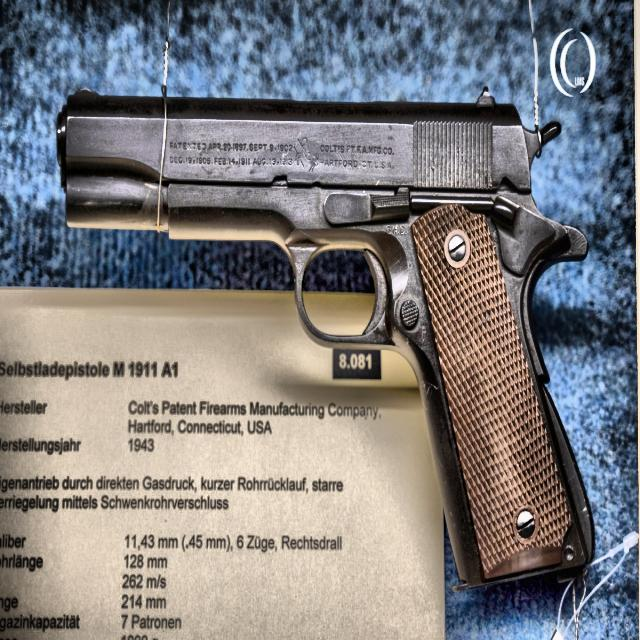Colt m1911: (55, 78, 595, 594)
